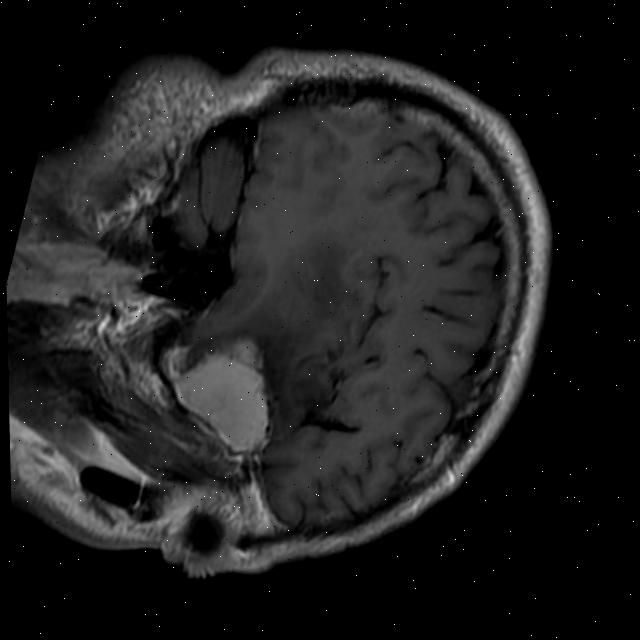Meningioma: (157, 340, 286, 461)
